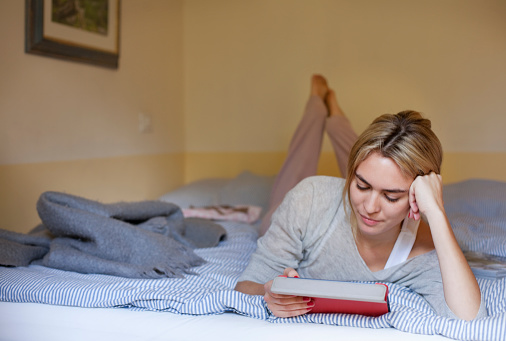deitado: (209, 103, 496, 328)
